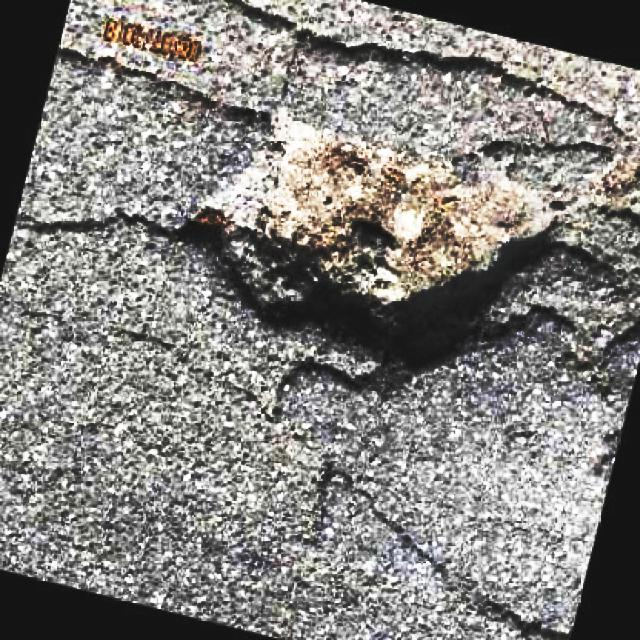pothole: (178, 102, 564, 364)
